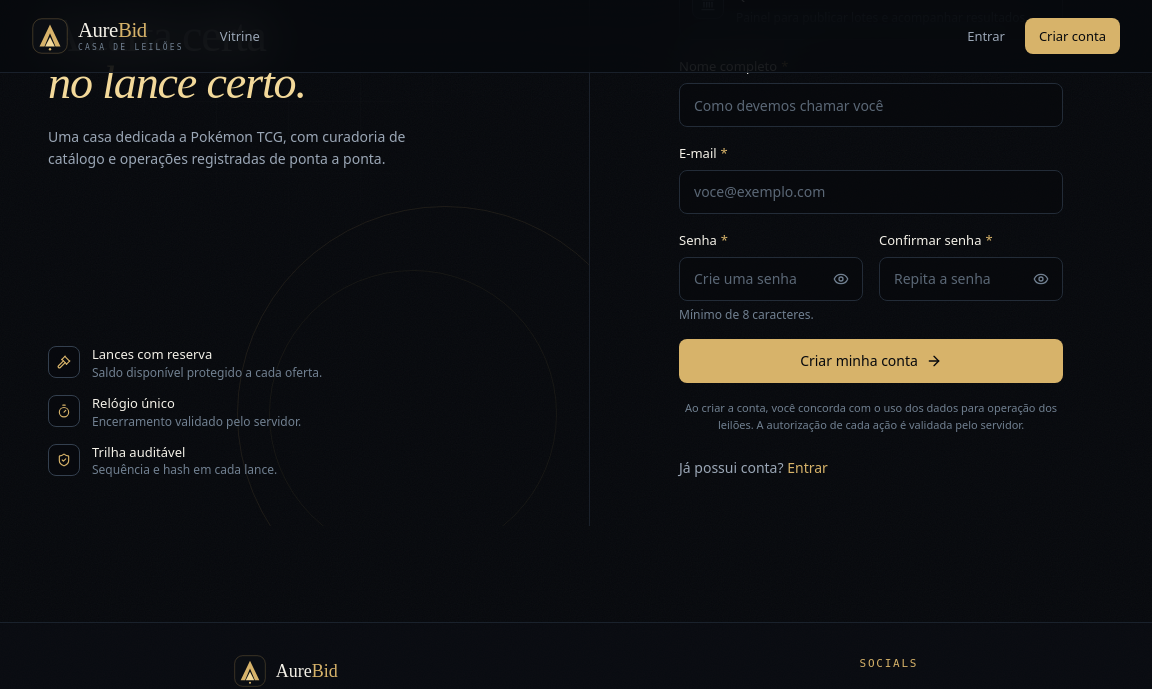
Test: validação de formulários › mostra erros acessíveis ao enviar o cadastro vazio
(page scrolled)
Click the button "Criar minha conta".
click(871, 361)  # box [679, 339, 1063, 383]
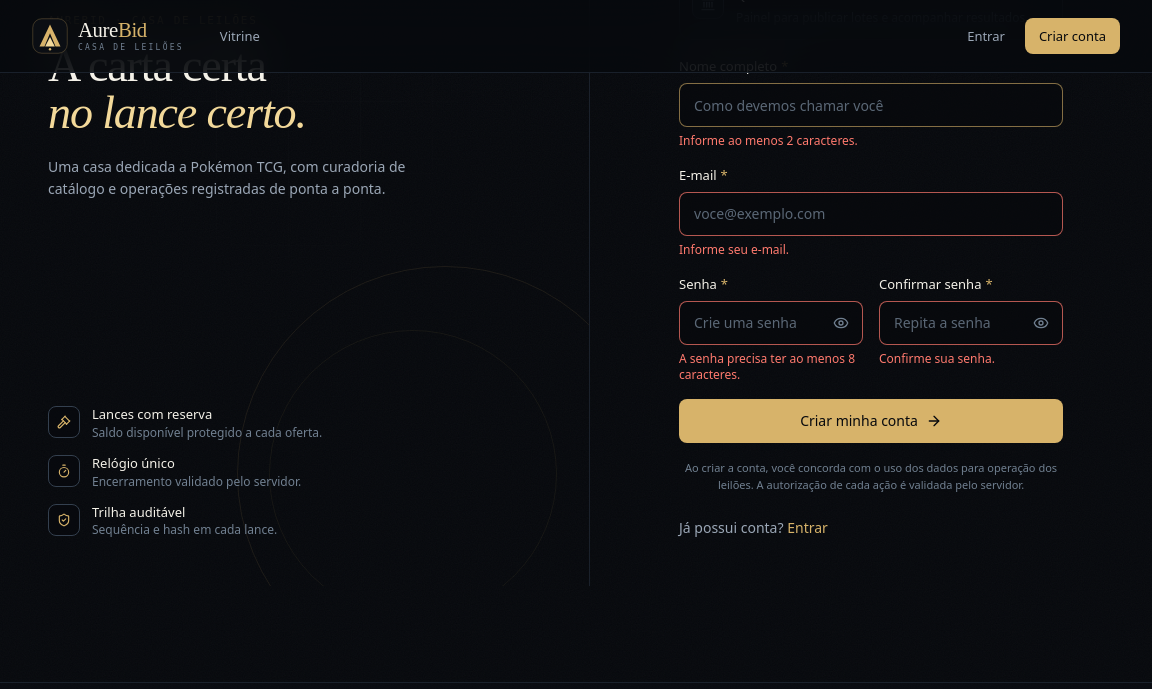
Expected: the text "Informe ao menos 2 caracteres." is shown, [679, 132, 858, 149]
Expected: the text "Informe seu e-mail." is shown, [679, 241, 789, 258]
Expected: the text "A senha precisa ter ao menos 8 caracteres." is shown, [679, 351, 863, 383]
